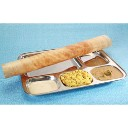dosa: (1, 32, 115, 79)
